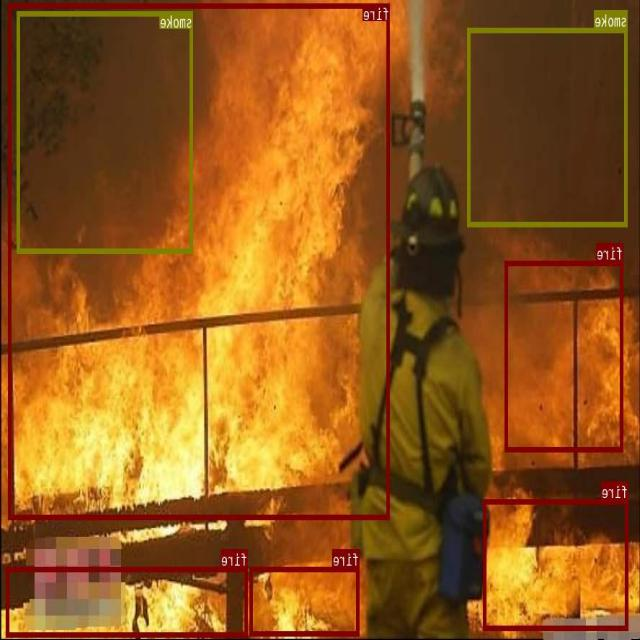fire: (9, 3, 390, 518), (506, 260, 624, 450), (484, 498, 628, 629), (7, 567, 249, 636), (250, 567, 360, 635)
smoke: (18, 11, 194, 252), (468, 27, 628, 226)
